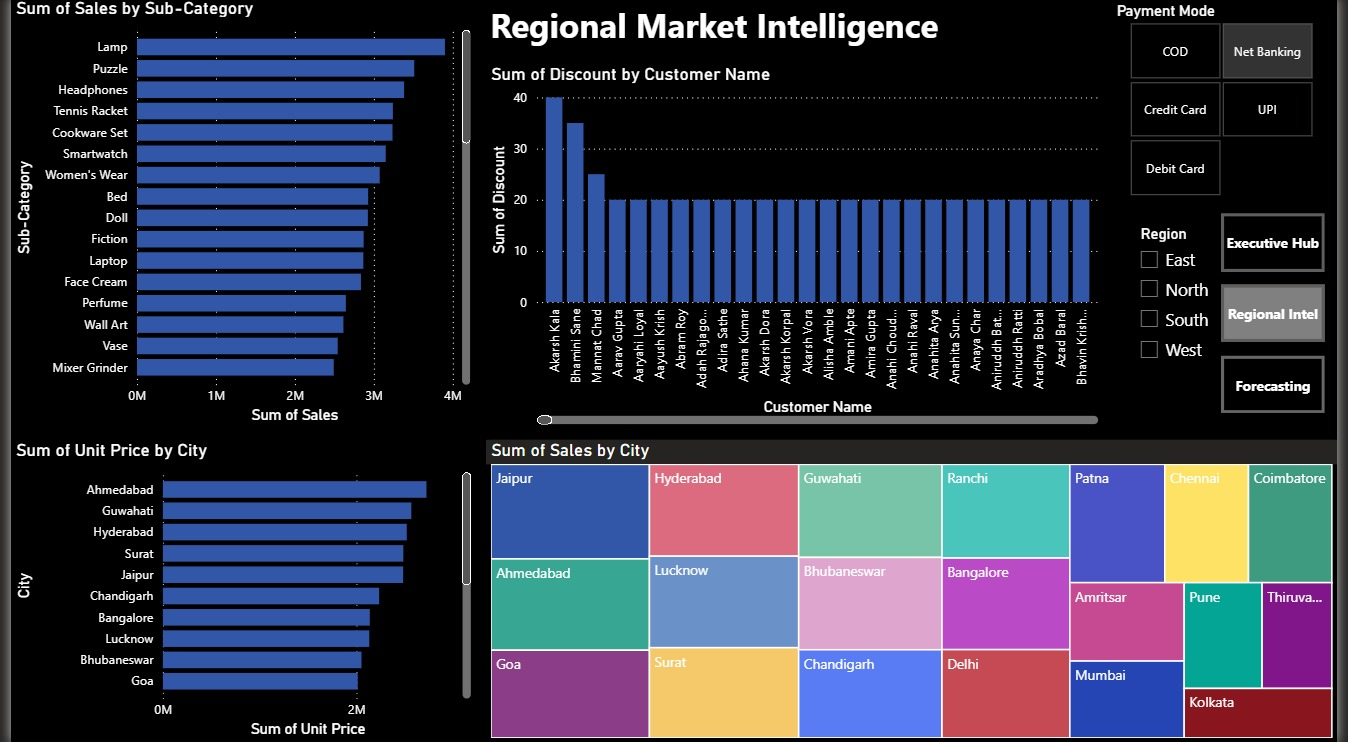

What the dashboard file says about the page in this screenshot:
{"tool":"powerbi","page":{"name":"Page 2","canvas":[1280,720],"ordinal":1},"visuals":[{"type":"clusteredBarChart","fields":{"Category":["data_source.Sub-Category"],"Y":["Sum(data_source.Sales)"]},"box":[0,0,448.6,417.1],"z":0},{"type":"clusteredColumnChart","fields":{"Category":["data_source.Customer Name"],"Y":["Sum(data_source.Discount)"]},"box":[458.4,63.9,596,353.5],"z":1000},{"type":"clusteredBarChart","fields":{"Category":["data_source.City"],"Y":["Sum(data_source.Unit Price)"]},"box":[0,427,449,293],"z":2000},{"type":"treemap","fields":{"Group":["data_source.City"],"Values":["Sum(data_source.Sales)"]},"box":[458.4,427.1,821.6,293.2],"z":3000},{"type":"textbox","box":[448.8,0,831.2,92.5],"z":4000},{"type":"slicer","fields":{"Values":["data_source.Region"]},"box":[1077.4,214.7,101.3,144.8],"z":5000},{"type":"slicer","fields":{"Values":["data_source.Payment Mode"]},"box":[1054.4,0,225.6,197.9],"z":6000},{"type":"actionButton","box":[1167.8,208.7,100.1,56.7],"z":7000},{"type":"actionButton","box":[1167.8,277.5,100.1,55.5],"z":8000},{"type":"actionButton","box":[1167.8,346.2,100.1,55.5],"z":9000}]}

Visuals, with their boxes in screenshot pixels (x1, y1, x2, y2), scaled from the page's 1280x720 canvas onto the 1348x742 screenshot:
clusteredBarChart - data_source.Sub-Category x Sum(data_source.Sales): x1=0, y1=0, x2=472, y2=430
clusteredColumnChart - data_source.Customer Name x Sum(data_source.Discount): x1=483, y1=66, x2=1110, y2=430
clusteredBarChart - data_source.City x Sum(data_source.Unit Price): x1=0, y1=440, x2=473, y2=741
treemap - data_source.City x Sum(data_source.Sales): x1=483, y1=440, x2=1347, y2=741
textbox: x1=473, y1=0, x2=1347, y2=95
slicer - data_source.Region: x1=1135, y1=221, x2=1241, y2=370
slicer - data_source.Payment Mode: x1=1110, y1=0, x2=1347, y2=204
actionButton: x1=1230, y1=215, x2=1335, y2=274
actionButton: x1=1230, y1=286, x2=1335, y2=343
actionButton: x1=1230, y1=357, x2=1335, y2=414
